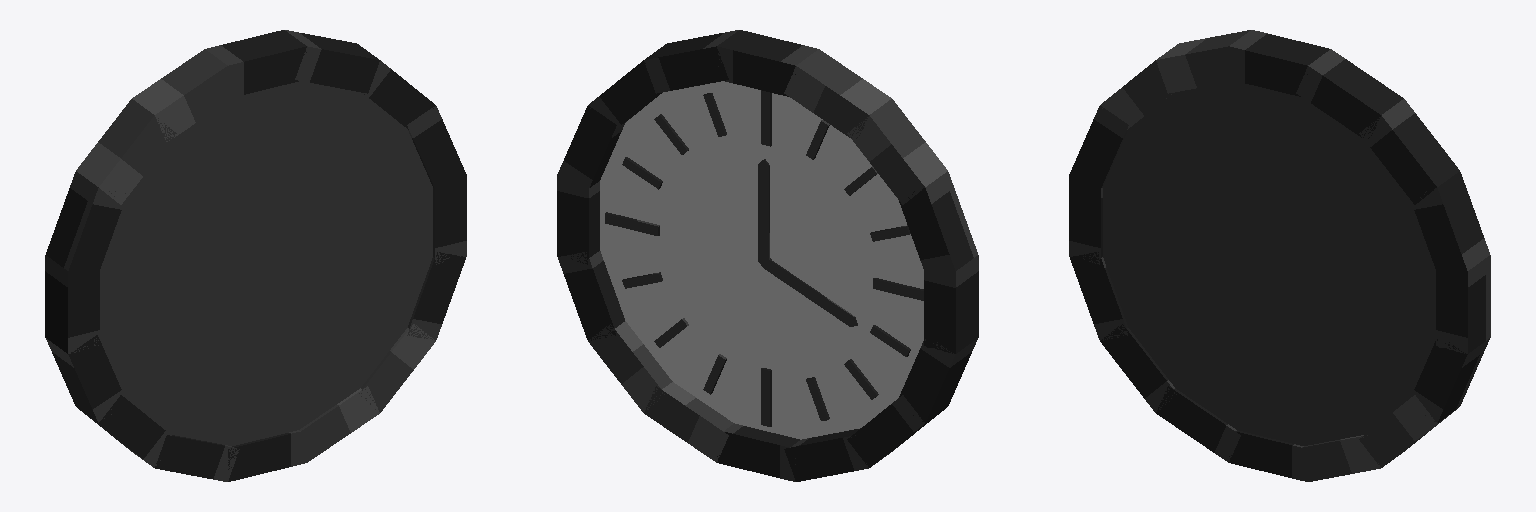
The picture shows the model from 3 angles: view 1: azimuth 30°, elevation 25°; view 2: azimuth 150°, elevation 25°; view 3: azimuth 330°, elevation 25°; orthographic projection.
Parts seen in each view (by area): view 1: cube.021, cube.020, cube.019, cube.016, cube.018, cube.015, cube.017, cube.009, cube.008, cube.010, cube.024, cube.022 (+11 smaller); view 2: cube.021, cube.020, cube.019, cube.016, cube.018, cube.015, cube.009, cube.008, cube.010, cube.024, cube.022, cube.017 (+17 smaller); view 3: cube.021, cube.020, cube.019, cube.016, cube.018, cube.015, cube.017, cube.013, cube.012, cube.014, cube.007, cube.022 (+11 smaller).
Boxes of the visible parts, box(x1,y1,x2,y2) form: cube.021: box(100, 177, 432, 347); cube.020: box(104, 269, 428, 386); cube.019: box(106, 138, 427, 254); cube.016: box(121, 316, 411, 421); cube.018: box(123, 103, 410, 207); cube.015: box(156, 368, 375, 445); cube.017: box(160, 81, 373, 155); cube.009: box(76, 99, 176, 204); cube.008: box(132, 49, 239, 141); cube.010: box(46, 171, 125, 276); cube.024: box(45, 255, 99, 353); cube.022: box(206, 30, 306, 97); cube.021: box(600, 170, 923, 339); cube.020: box(605, 263, 923, 378); cube.019: box(605, 131, 914, 244); cube.016: box(622, 310, 906, 414); cube.018: box(622, 97, 896, 197); cube.015: box(658, 362, 876, 439); cube.009: box(847, 99, 947, 204); cube.008: box(784, 49, 891, 138); cube.010: box(899, 171, 977, 272); cube.024: box(924, 255, 978, 353); cube.022: box(717, 30, 817, 96); cube.017: box(658, 81, 855, 144); cube.021: box(1103, 177, 1435, 347); cube.020: box(1107, 269, 1431, 386); cube.019: box(1108, 138, 1429, 254); cube.016: box(1124, 316, 1414, 421); cube.018: box(1125, 103, 1412, 207); cube.015: box(1160, 368, 1379, 445); cube.017: box(1162, 81, 1375, 155); cube.013: box(1359, 99, 1459, 204); cube.012: box(1296, 49, 1403, 138); cube.014: box(1411, 171, 1489, 271); cube.007: box(1436, 255, 1490, 353); cube.022: box(1229, 30, 1329, 96).
Bounding box in the file's own units: 0.7855 × 0.7855 × 0.0781.
Materials: 2 (1 with a texture image).